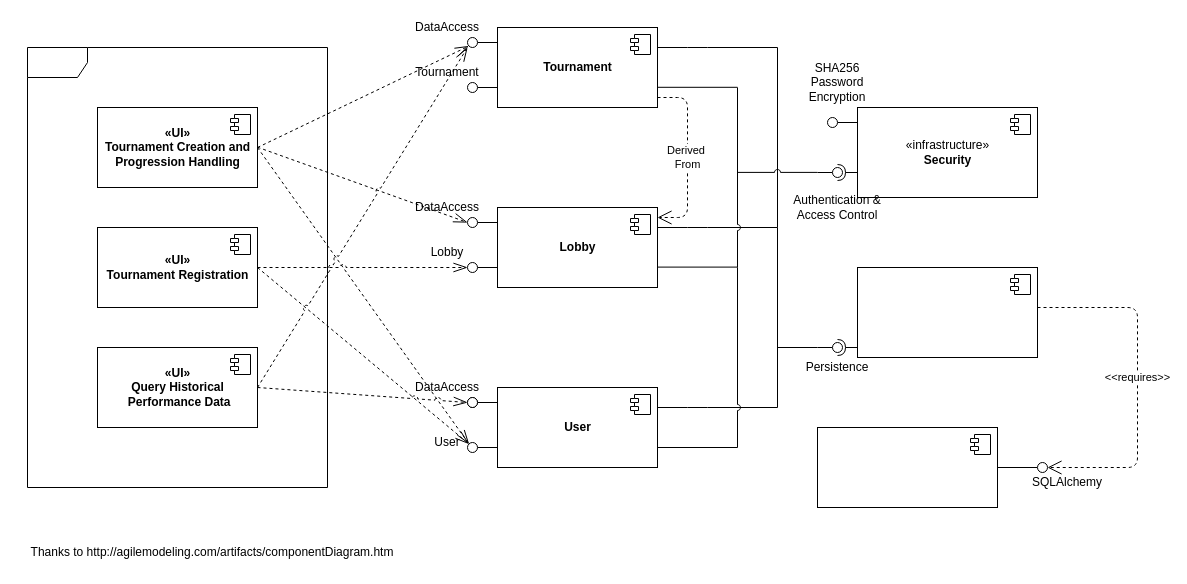
Image size: 1187x584. Some labels were removed from this diagram. Each missing label, with the centre of its shape:
"Android" belongs at [177,267].
"«database» SQLite3 DB" belongs at [907,467].
"«infrastructure» Persistence" belongs at [947,312].
